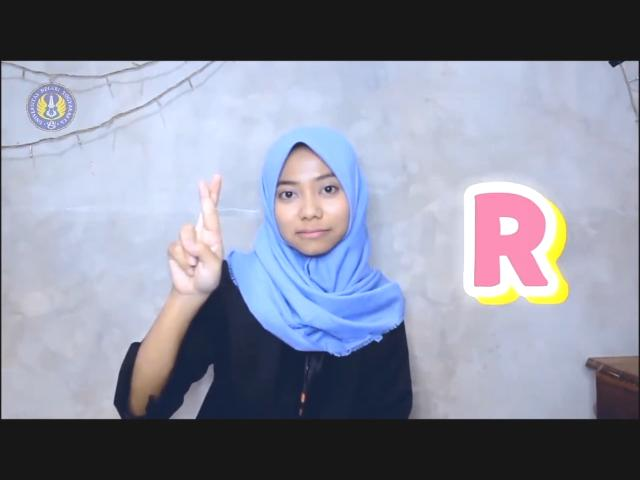R: (170, 172, 226, 292)
